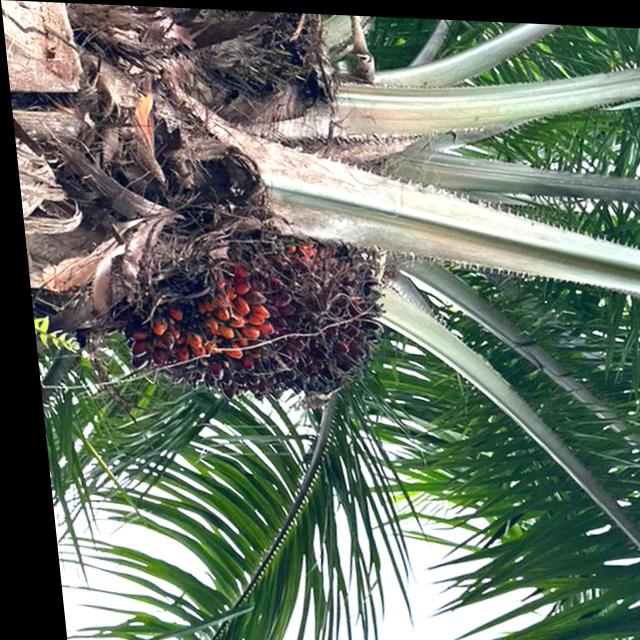ripe: (122, 233, 396, 406)
